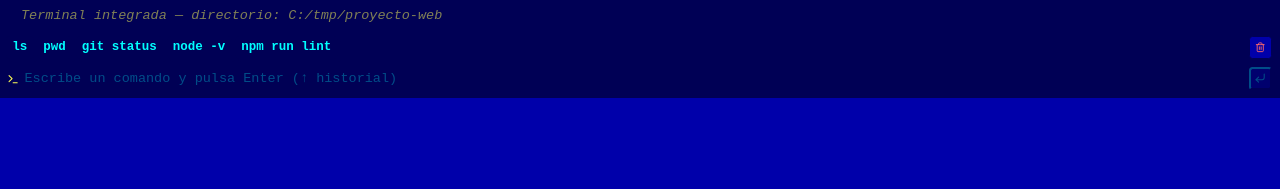
Test: TerminalView › ejecuta un comando y muestra la salida
The width and height of the screenshot is (1280, 189).
Type "ls" into the field with placeholder "Escribe un comando y pulsa Enter (↑ historial)" at (634, 79), box [24,70,1244,89]
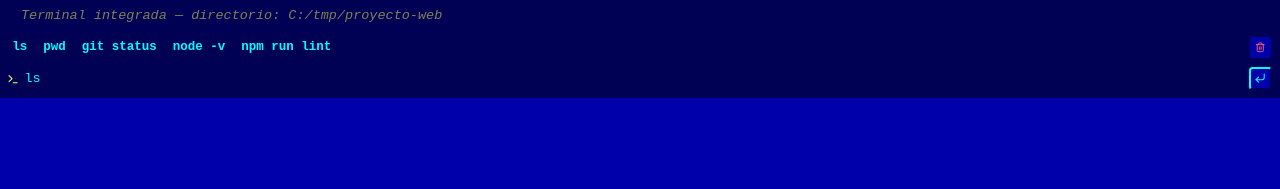
Press Enter in the field with placeholder "Escribe un comando y pulsa Enter (↑ historial)", box [24,70,1244,89]
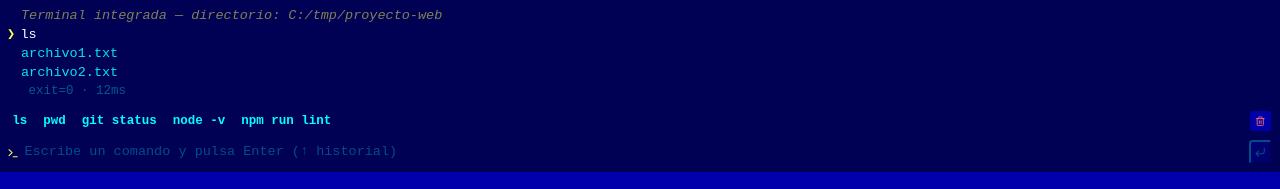
Check: the text "archivo1.txt archivo2.txt" is shown, box [21,46,118,80]
